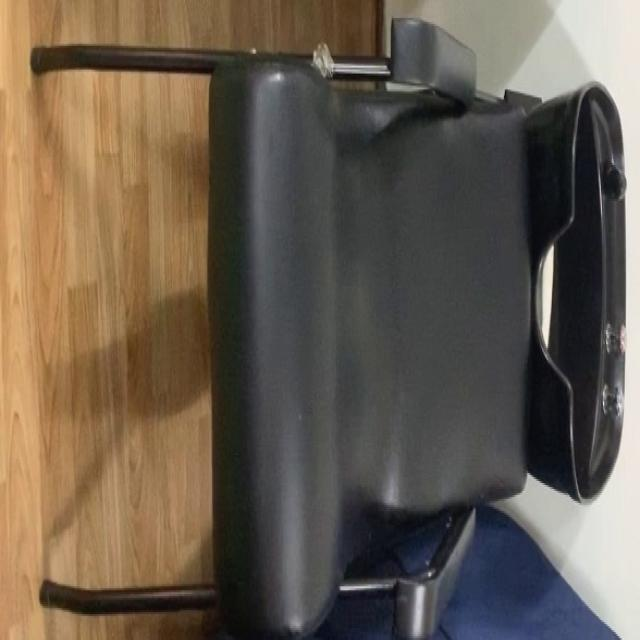Chair: (20, 19, 629, 633)
